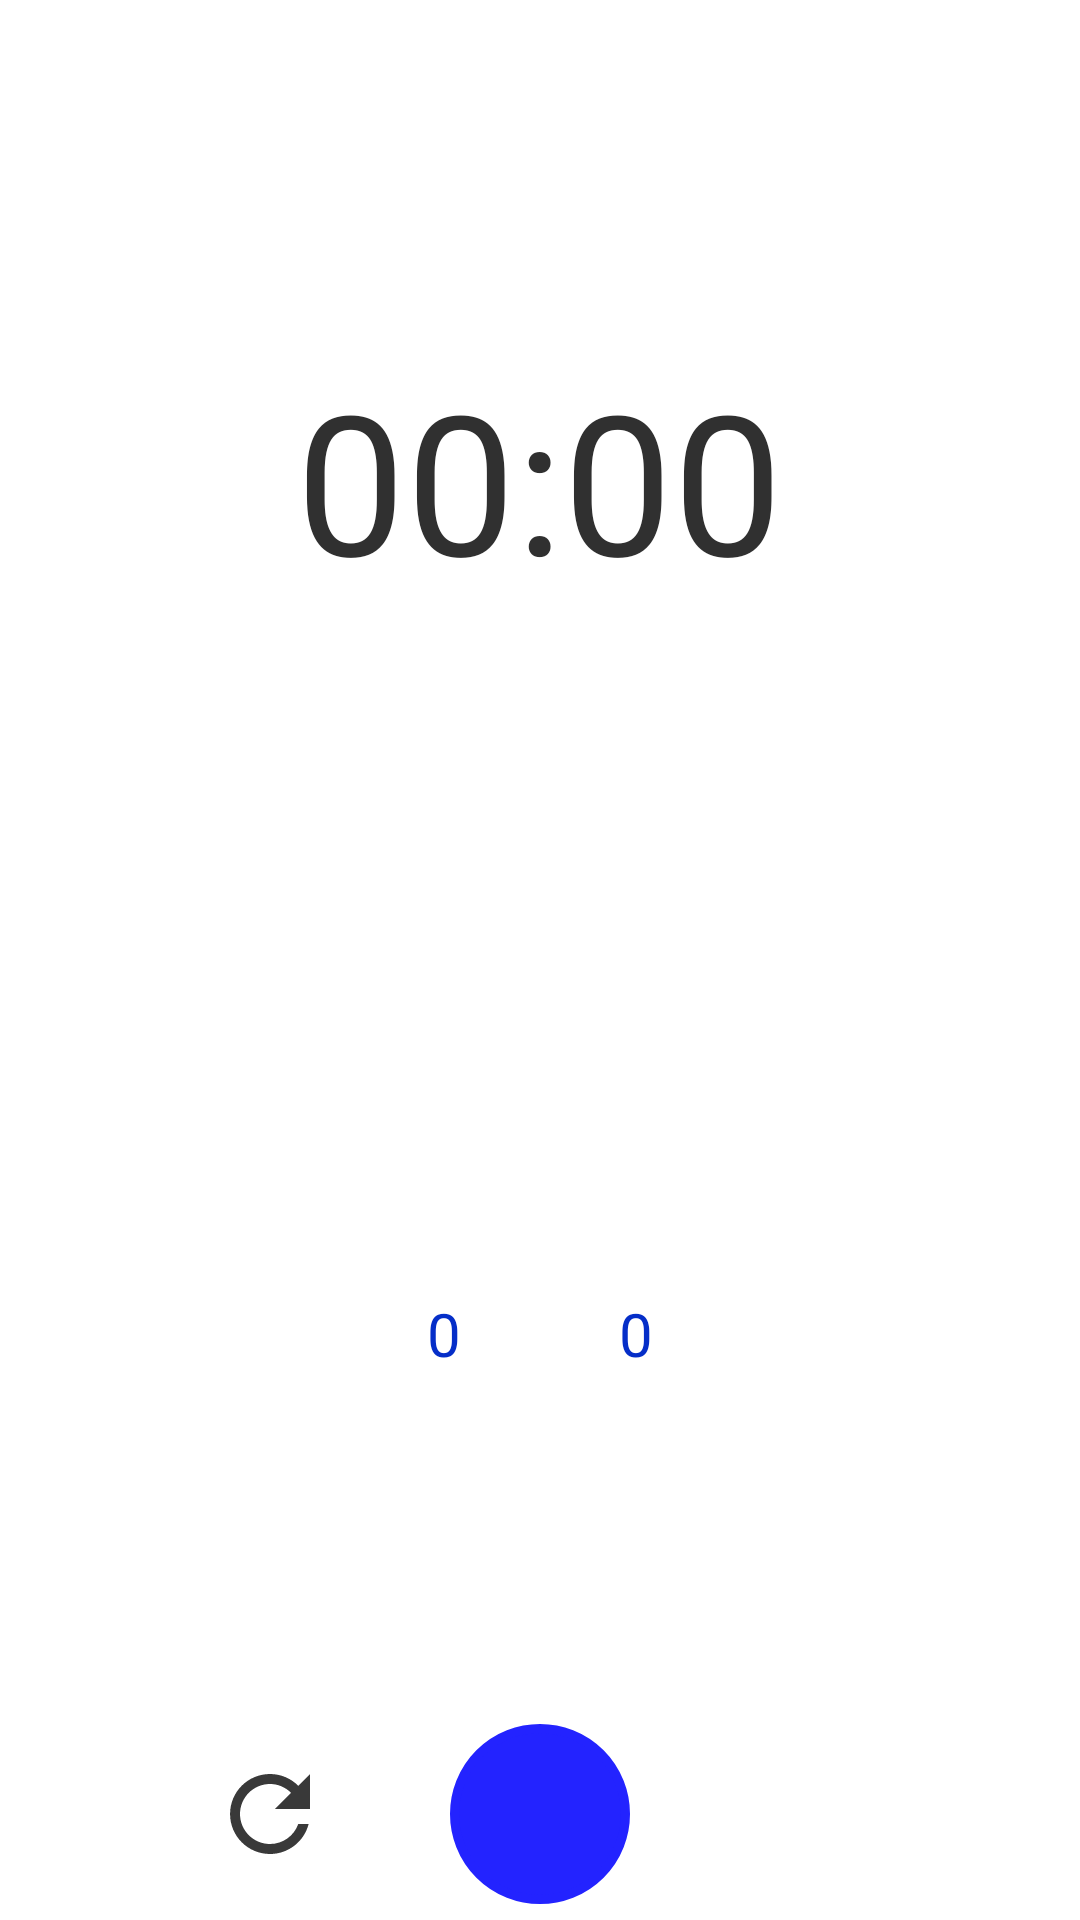

Locate icon controls on the screen. Image size 1080w x 1920h, boxes as (left=x1, top=y1, right=x2, bottom=y2).
reset: (left=230, top=1774, right=310, bottom=1854)
